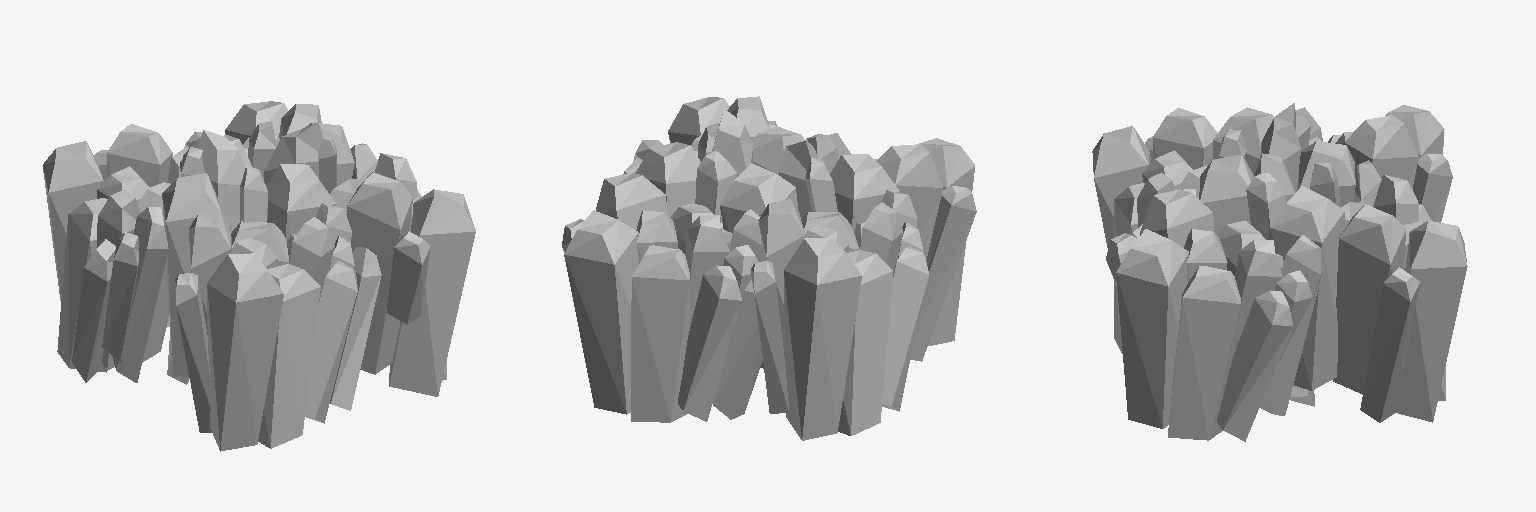
The model's file is Grass1.obj.
The picture shows the model from 3 angles: view 1: azimuth 30°, elevation 25°; view 2: azimuth 150°, elevation 25°; view 3: azimuth 270°, elevation 25°; orthographic projection.
Parts seen in each view (by area): view 1: Nullo_Erba_Cubo_27, Nullo_Erba_Cubo_55, Nullo_Erba_Cubo_221, Nullo_Erba_Cubo_53, Nullo_Erba_Cubo_21, Nullo_Erba_Cubo_121, Nullo_Erba_Cubo_91, Nullo_Erba_Cubo3, Nullo_Erba_Cubo_5, Nullo_Erba_Cubo_6, Nullo_Erba_Cubo_20, Nullo_Erba_Cubo_24 (+23 smaller); view 2: Nullo_Erba_Cubo3, Nullo_Erba_Cubo_28, Nullo_Erba_Cubo_33, Nullo_Erba_Cubo_5, Nullo_Erba_Cubo_341, Nullo_Erba_Cubo_24, Nullo_Erba_Cubo_6, Nullo_Erba_Cubo_351, Nullo_Erba_Cubo_25, Nullo_Erba_Cubo_3, Nullo_Erba_Cubo_121, Nullo_Erba_Cubo_27 (+19 smaller); view 3: Nullo_Erba_Cubo_55, Nullo_Erba_Cubo_50, Nullo_Erba_Cubo_28, Nullo_Erba_Cubo_30, Nullo_Erba_Cubo_43, Nullo_Erba_Cubo_49, Nullo_Erba_Cubo_31, Nullo_Erba_Cubo_27, Nullo_Erba_Cubo_2, Nullo_Erba_Cubo_15, Nullo_Erba_Cubo_25, Nullo_Erba_Cubo_53 (+20 smaller).
Boxes of the visible parts, <box> form: Nullo_Erba_Cubo_27: <box>207,253,283,451</box>; Nullo_Erba_Cubo_55: <box>389,189,475,396</box>; Nullo_Erba_Cubo_221: <box>258,264,320,448</box>; Nullo_Erba_Cubo_53: <box>346,172,412,374</box>; Nullo_Erba_Cubo_21: <box>305,261,357,423</box>; Nullo_Erba_Cubo_121: <box>162,173,220,376</box>; Nullo_Erba_Cubo_91: <box>112,207,168,382</box>; Nullo_Erba_Cubo3: <box>43,141,103,300</box>; Nullo_Erba_Cubo_5: <box>57,198,107,372</box>; Nullo_Erba_Cubo_6: <box>72,239,115,382</box>; Nullo_Erba_Cubo_20: <box>330,247,381,410</box>; Nullo_Erba_Cubo_24: <box>175,273,211,432</box>; Nullo_Erba_Cubo3: <box>784,237,861,440</box>; Nullo_Erba_Cubo_28: <box>564,210,638,414</box>; Nullo_Erba_Cubo_33: <box>631,245,689,422</box>; Nullo_Erba_Cubo_5: <box>838,250,892,435</box>; Nullo_Erba_Cubo_341: <box>678,265,741,421</box>; Nullo_Erba_Cubo_24: <box>910,186,976,361</box>; Nullo_Erba_Cubo_6: <box>882,246,928,411</box>; Nullo_Erba_Cubo_351: <box>713,280,762,419</box>; Nullo_Erba_Cubo_25: <box>876,144,942,259</box>; Nullo_Erba_Cubo_3: <box>751,260,788,413</box>; Nullo_Erba_Cubo_121: <box>830,154,899,230</box>; Nullo_Erba_Cubo_27: <box>919,138,974,345</box>; Nullo_Erba_Cubo_55: <box>1116,229,1188,428</box>; Nullo_Erba_Cubo_50: <box>1168,266,1240,440</box>; Nullo_Erba_Cubo_28: <box>1390,221,1467,422</box>; Nullo_Erba_Cubo_30: <box>1333,204,1405,394</box>; Nullo_Erba_Cubo_43: <box>1270,186,1344,390</box>; Nullo_Erba_Cubo_49: <box>1217,291,1292,441</box>; Nullo_Erba_Cubo_31: <box>1360,267,1419,422</box>; Nullo_Erba_Cubo_27: <box>1092,126,1150,247</box>; Nullo_Erba_Cubo_2: <box>1344,115,1418,189</box>; Nullo_Erba_Cubo_15: <box>1199,154,1253,234</box>; Nullo_Erba_Cubo_25: <box>1153,108,1217,169</box>; Nullo_Erba_Cubo_53: <box>1140,189,1213,247</box>.
Bounding box in the file's own units: 106 × 80.21 × 103.